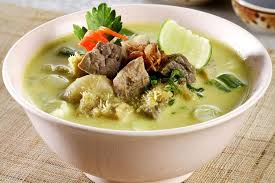soto: (24, 2, 270, 138)
